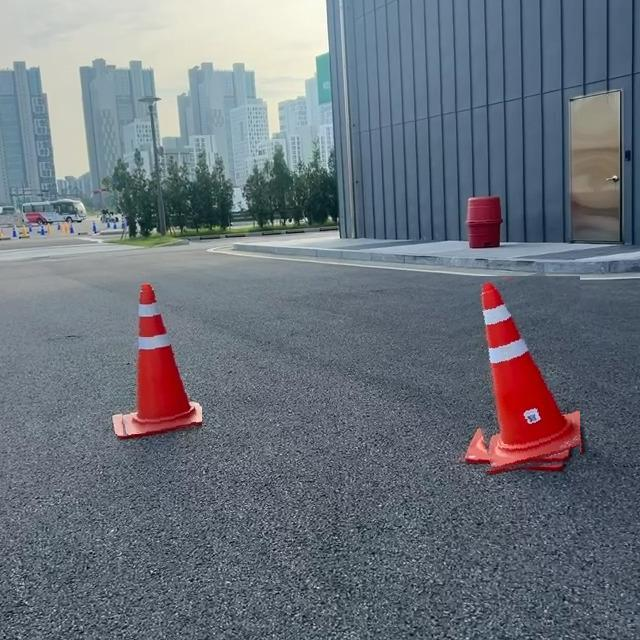fallen_object: (409, 273, 605, 501), (100, 272, 224, 446)
